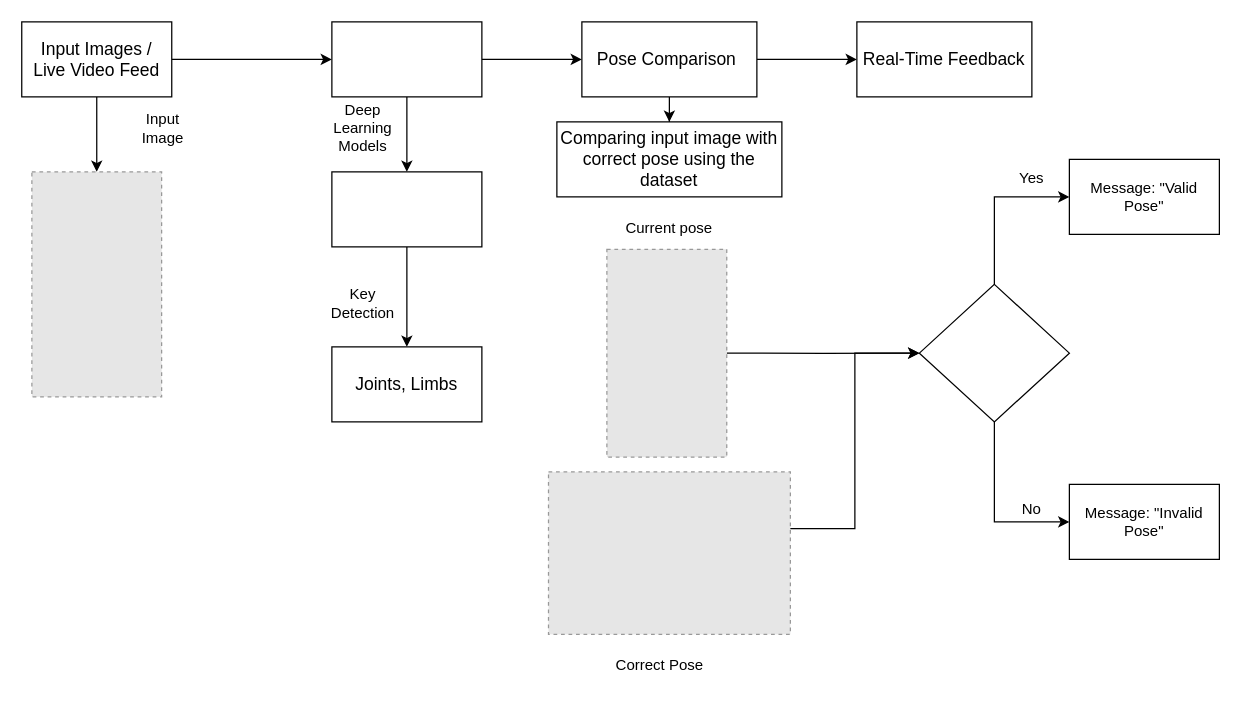
Some shapes in this 1243 by 706 pixel diagram are drawn without their labels. Grey dashed boxes stand in for pictures. Here are the shapes that lost their labels. From the top down, the centre of each, then its label:
At pixel 406 59: "Pose Estimation".
At pixel 406 209: "MediaPipe".
At pixel 993 352: "If pose is same".
